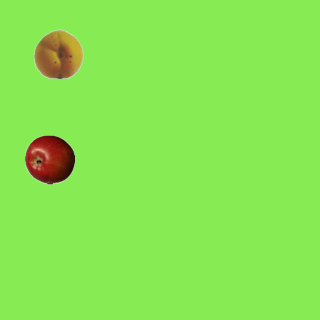Apple Braeburn: (24, 134, 74, 184)
Peach 2: (33, 28, 83, 78)
